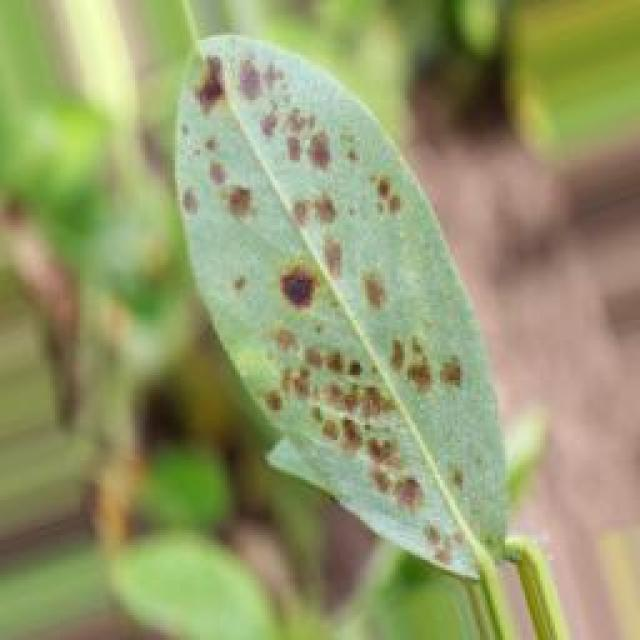Whitefly: (126, 0, 521, 584)
